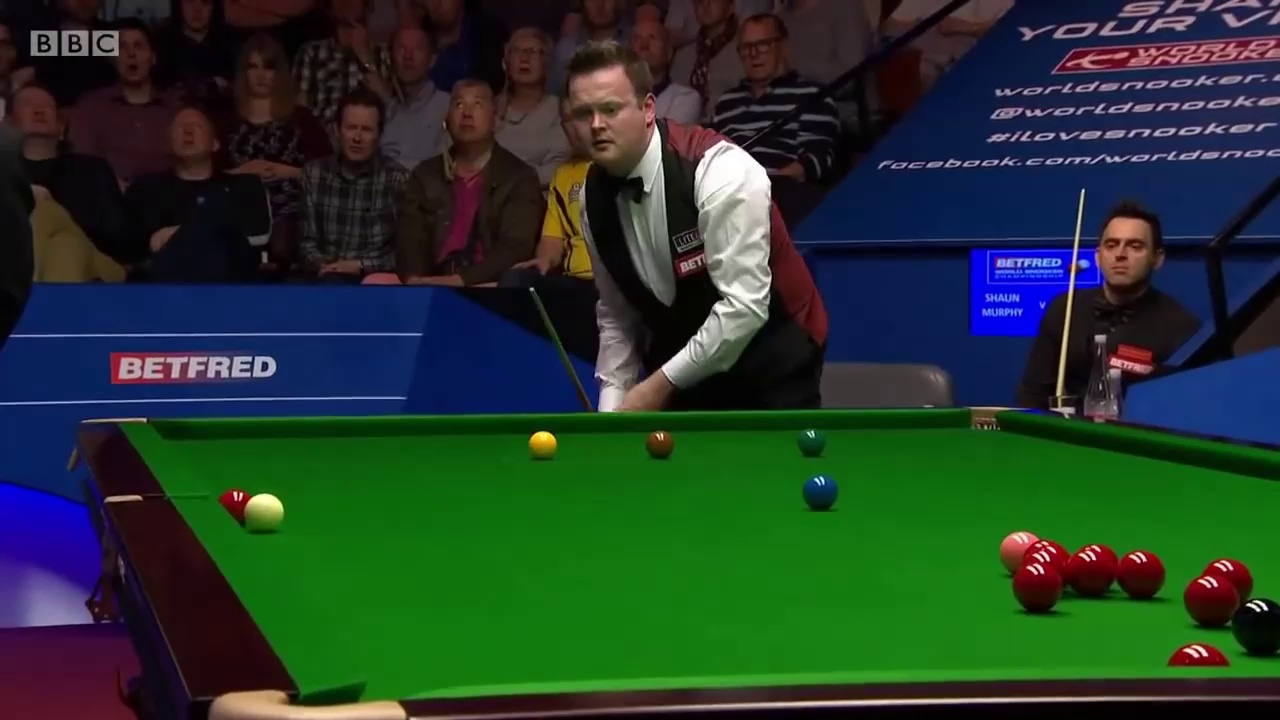Unknown: (1051, 199, 1254, 426)
black: (1234, 596, 1277, 652)
blue: (801, 477, 840, 508)
brown: (646, 429, 673, 456)
green: (796, 430, 825, 455)
red: (1182, 571, 1237, 631), (1066, 551, 1113, 598), (1014, 566, 1061, 611), (1123, 552, 1166, 600)
white: (243, 494, 287, 528)
yellow: (527, 430, 558, 458)
